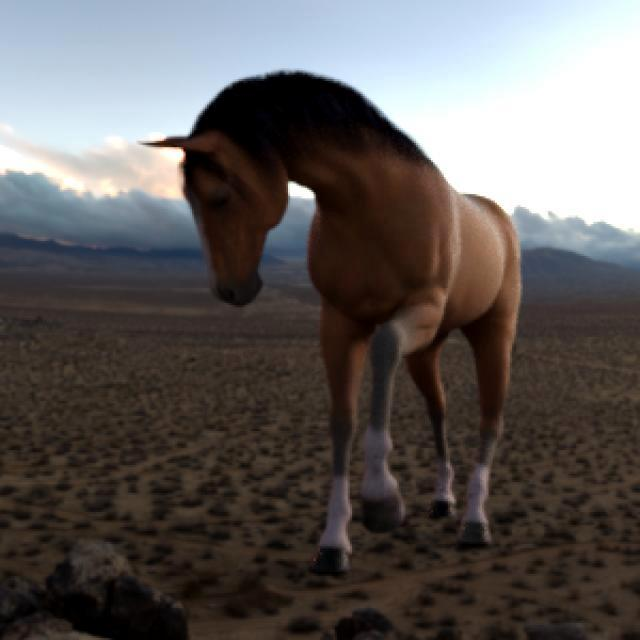horse: (155, 72, 520, 572)
